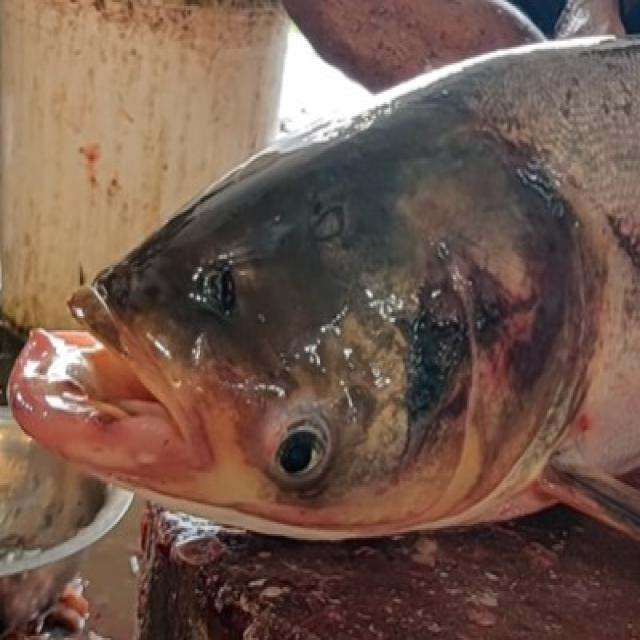Big-Head-Carp: (14, 18, 630, 585)
